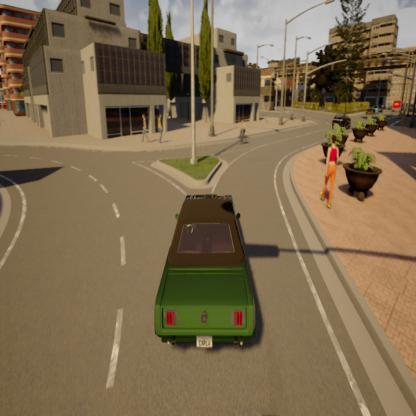Cars: (148, 172, 274, 370), (328, 99, 358, 131), (364, 102, 375, 117), (373, 101, 384, 115)
Pedestrian: (316, 126, 346, 211), (139, 107, 151, 156), (155, 108, 166, 150)
